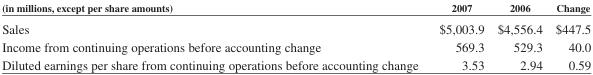table: (1, 1, 590, 71)
table column: (1, 1, 428, 71), (428, 1, 490, 71), (490, 1, 548, 71), (548, 1, 590, 71)
table column header: (1, 1, 590, 17)
table row: (1, 17, 590, 37), (1, 37, 590, 55), (1, 1, 590, 17), (1, 55, 590, 71)
